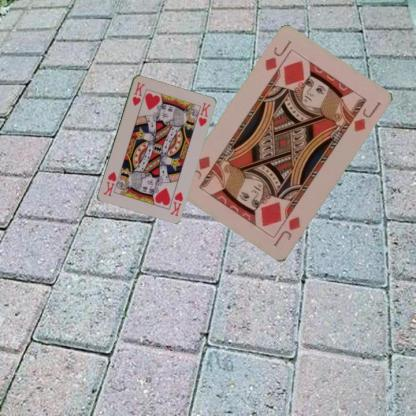Jd: (262, 38, 293, 74), (271, 214, 302, 248)
Kh: (167, 189, 184, 217), (130, 79, 146, 107)
